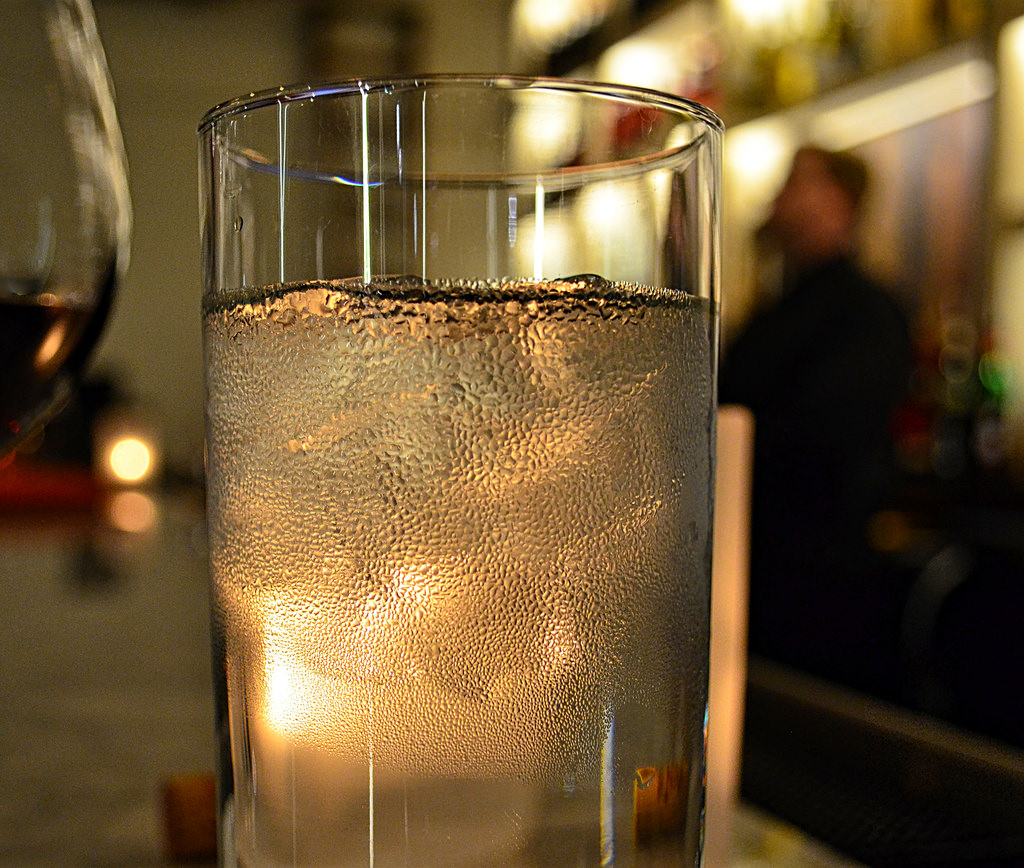glass of water: (196, 75, 722, 868)
